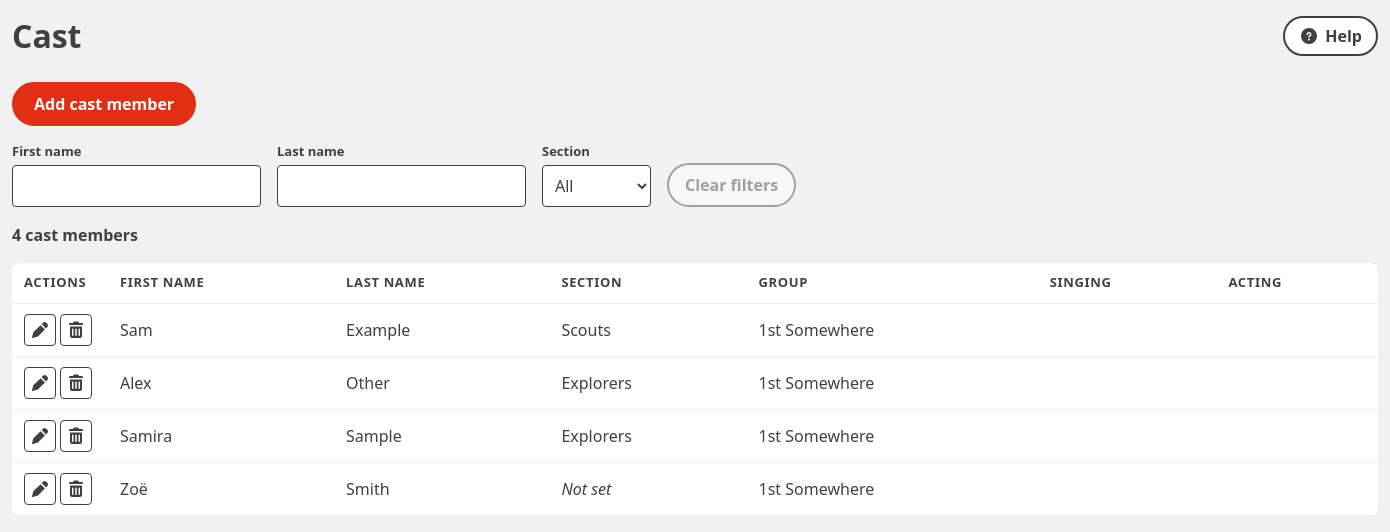
Test: Cast page › filtering › shows matches out of the total, in a live region for screen readers
The image size is (1390, 532).
Select "Explorers" in the dropdown named "section" at (596, 186), box [542,165,651,207]
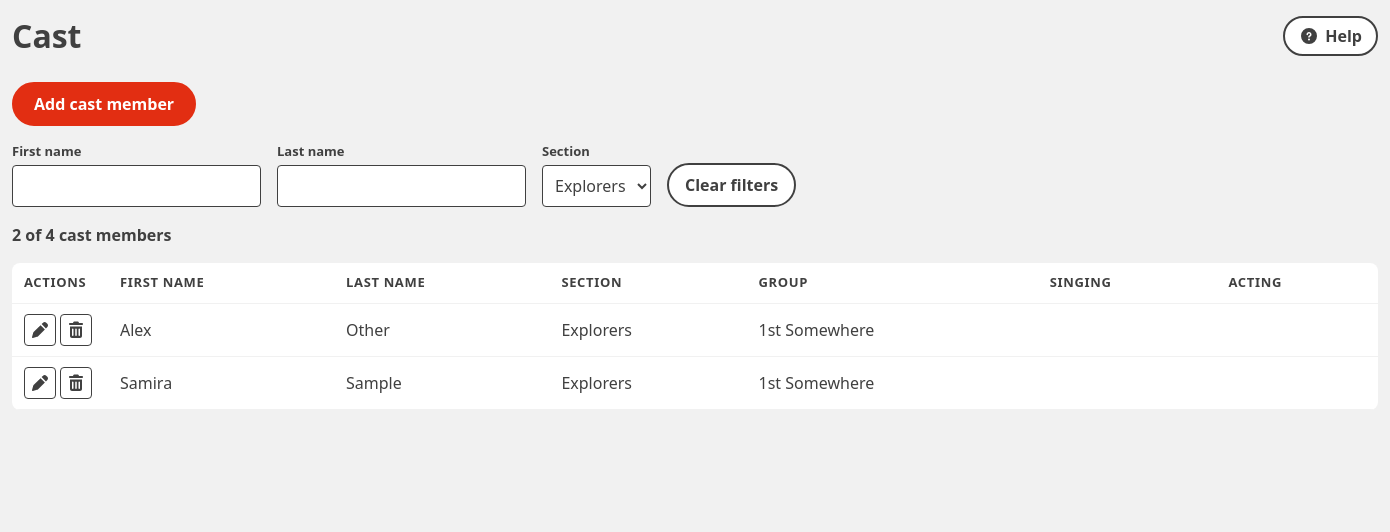
Check: the message with test id "count" reads "2 of 4 cast members", box [12,224,172,246]
